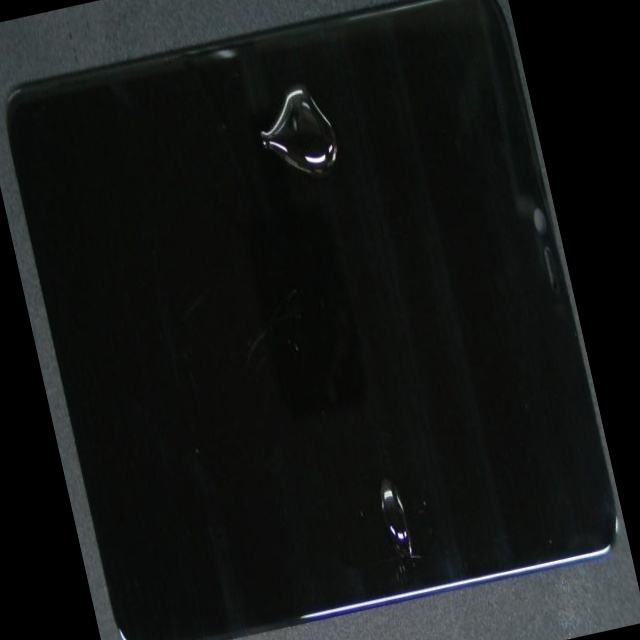oil: (196, 209, 593, 640), (167, 18, 497, 205)
